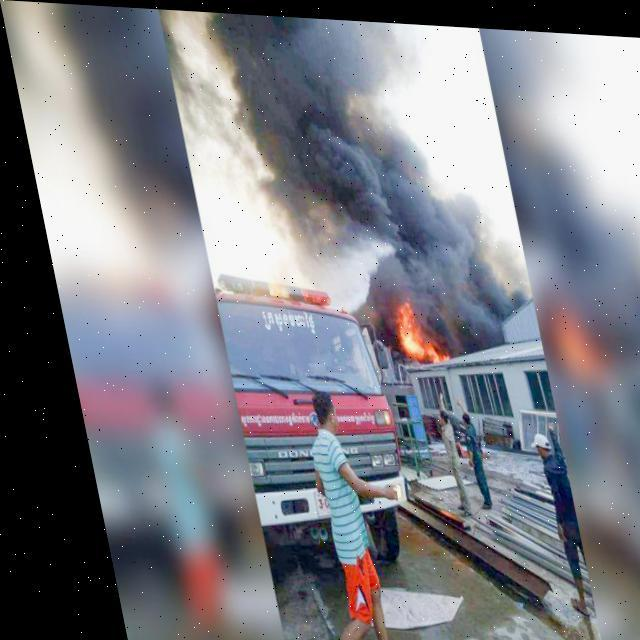Fire: (374, 289, 440, 372)
